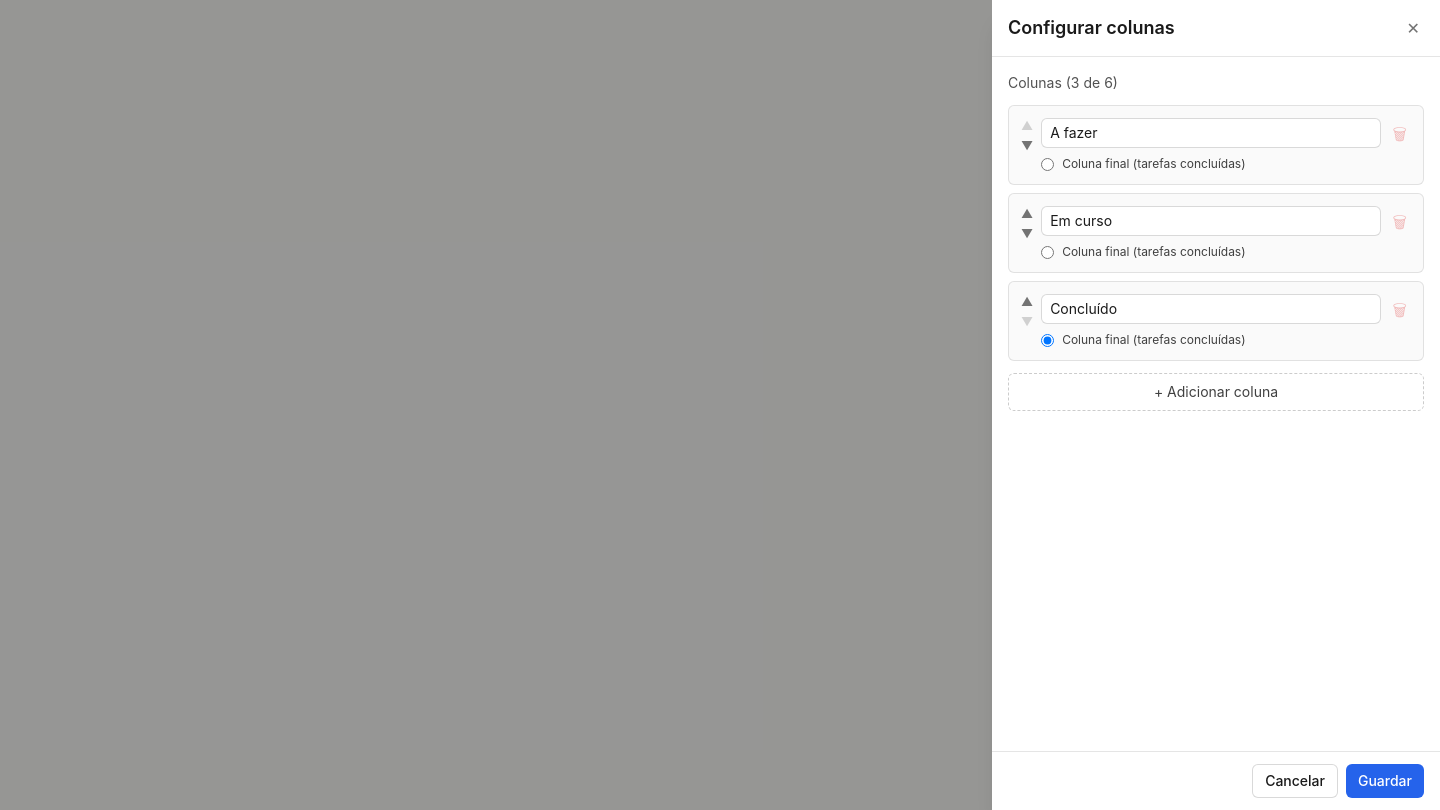
it: <ColumnConfigSheet> › validation: rename para nome duplicado mostra erro inline
Replace the text in the 1st field showing "A fazer" with "Em curso": x=1211, y=133 [1041,118,1380,148]
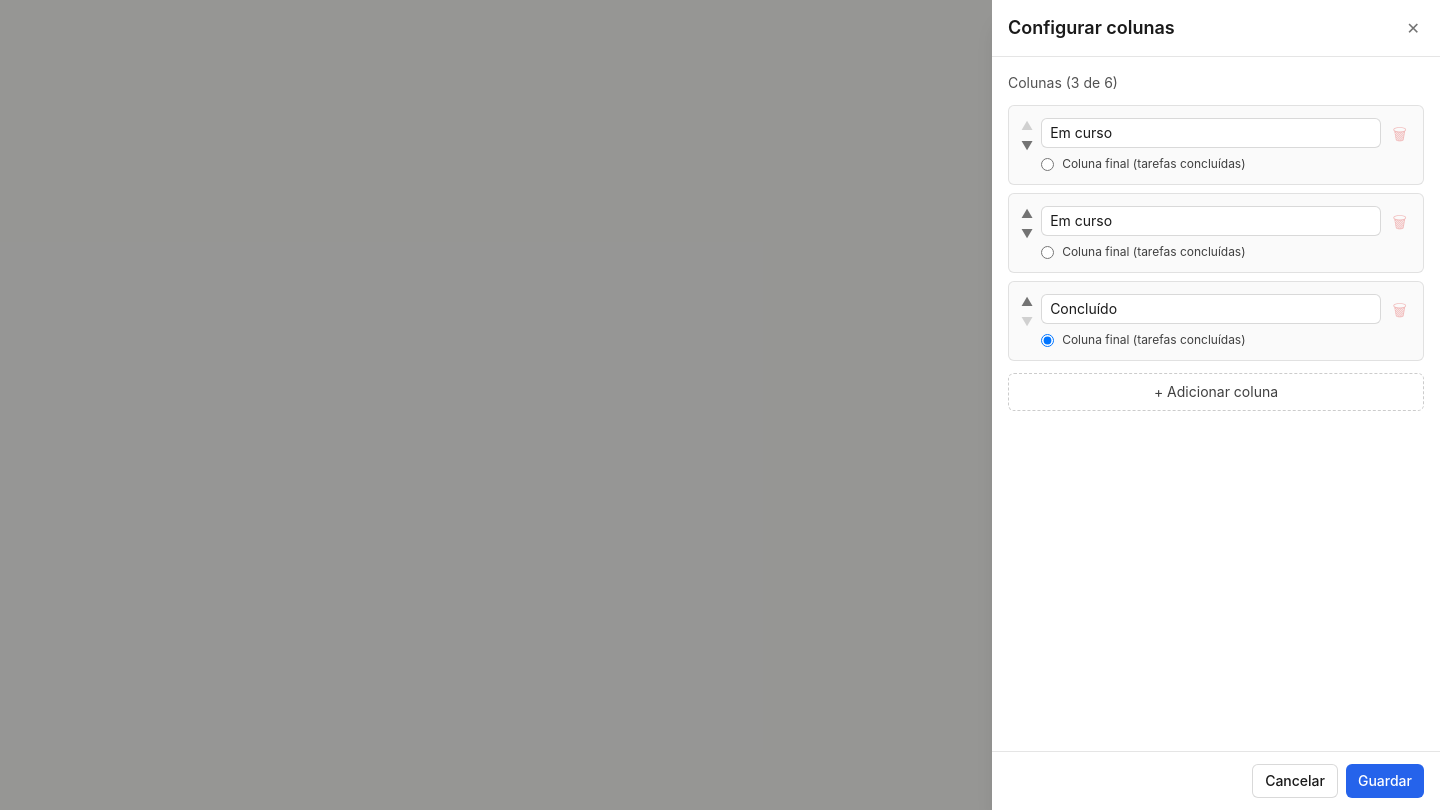
Click the button "Guardar": x=1385, y=781 [1346,764,1424,798]
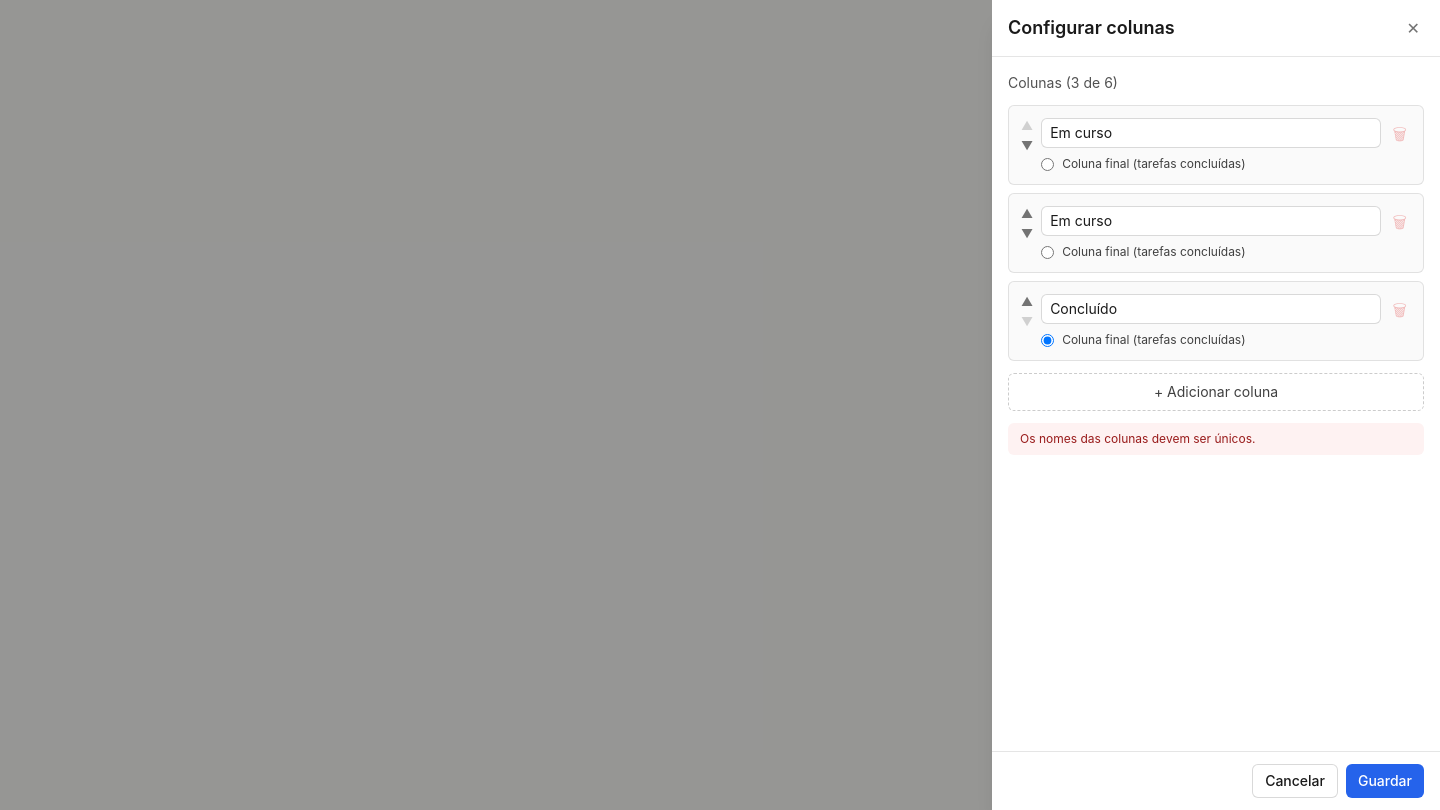
Expected: the message shows "únicos", [1020,431,1255,446]
